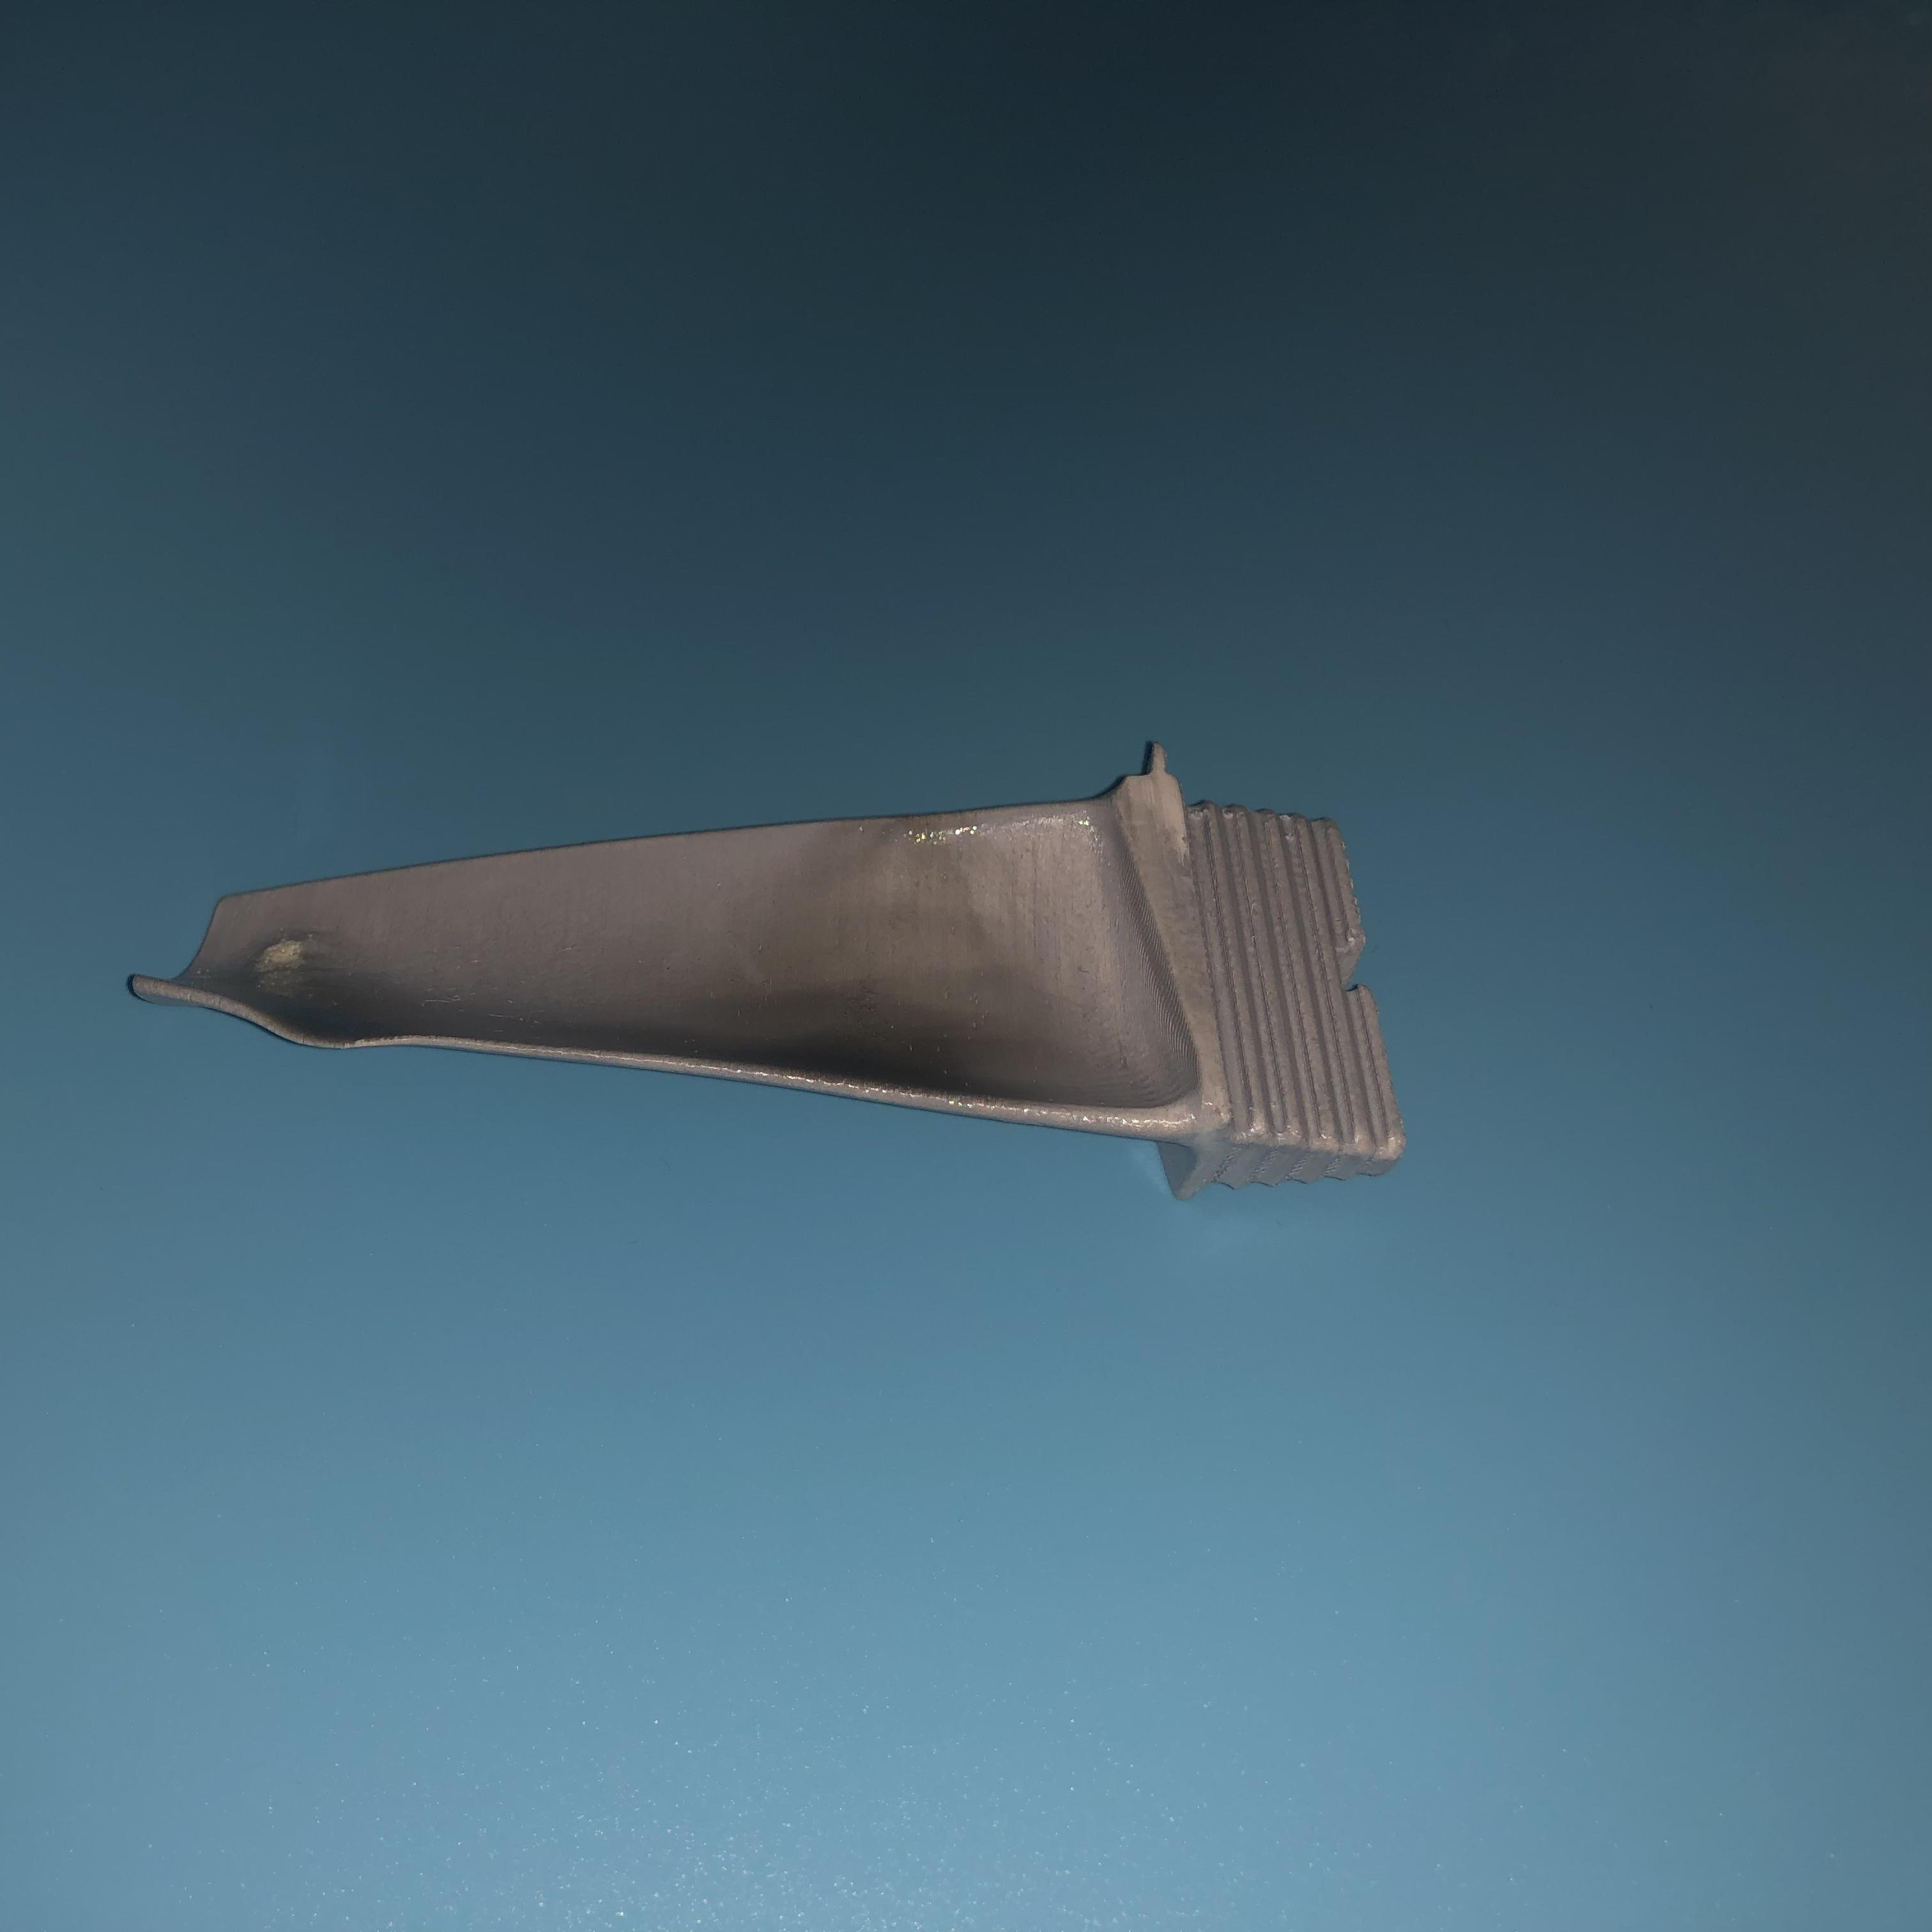ablation: (793, 823, 1044, 1099), (251, 920, 407, 1037)
